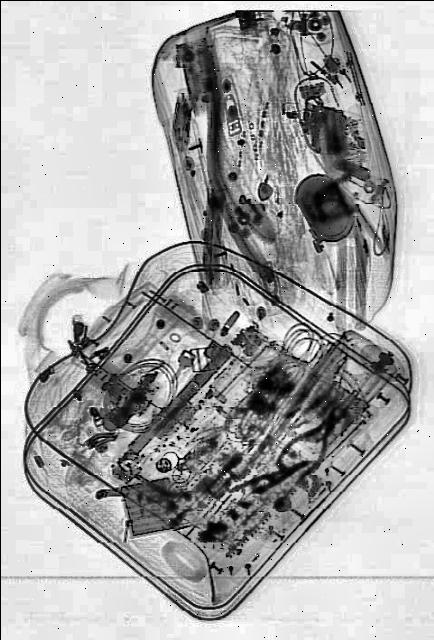Pliers: (269, 392, 352, 498)
